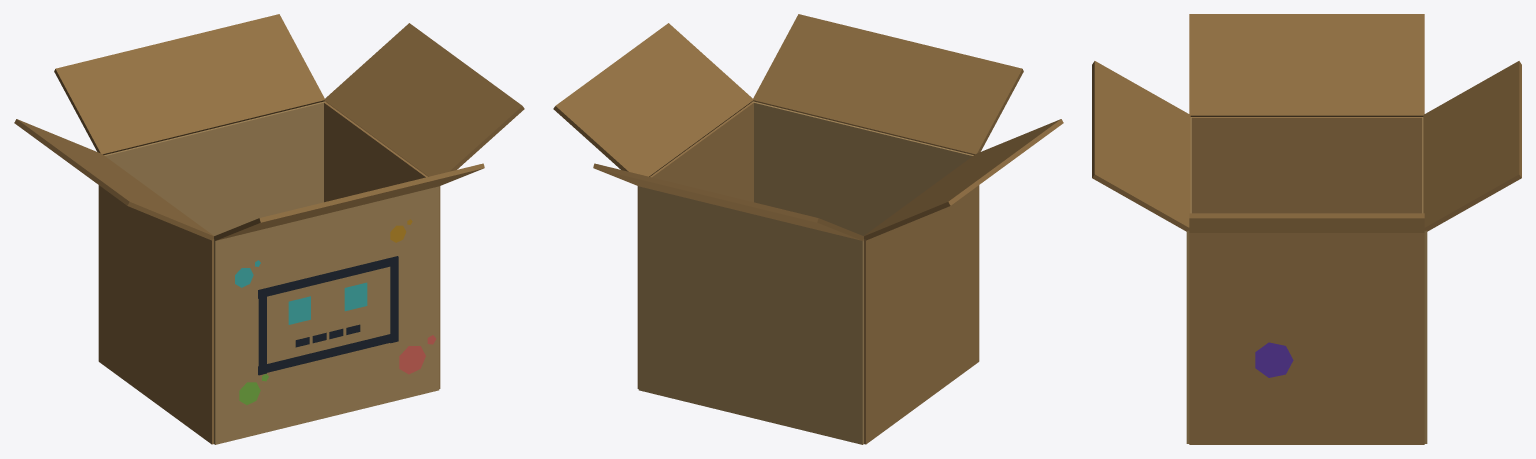
The model's file is caixa_robo_1.glb.
3 renders of one model, left to right at view 1: azimuth 30°, elevation 25°; view 2: azimuth 150°, elevation 25°; view 3: azimuth 270°, elevation 25°, orthographic. The views are drawn at different scales.
Parts seen in each view (by area): view 1: caixa_robo_1_malha; view 2: caixa_robo_1_malha; view 3: caixa_robo_1_malha.
Part boxes in pixels (left/top/right/bottom): caixa_robo_1_malha: left=14, top=14, right=524, bottom=444; caixa_robo_1_malha: left=553, top=14, right=1063, bottom=444; caixa_robo_1_malha: left=1092, top=14, right=1521, bottom=444.
Size of the model in its own units: 1.42 by 0.8971 by 1.28.
